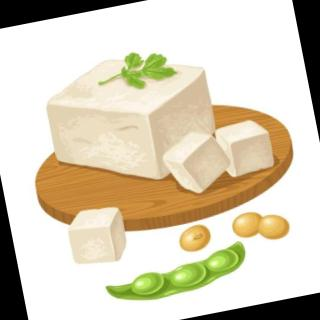Tahu: (33, 22, 286, 221), (48, 194, 138, 279)
